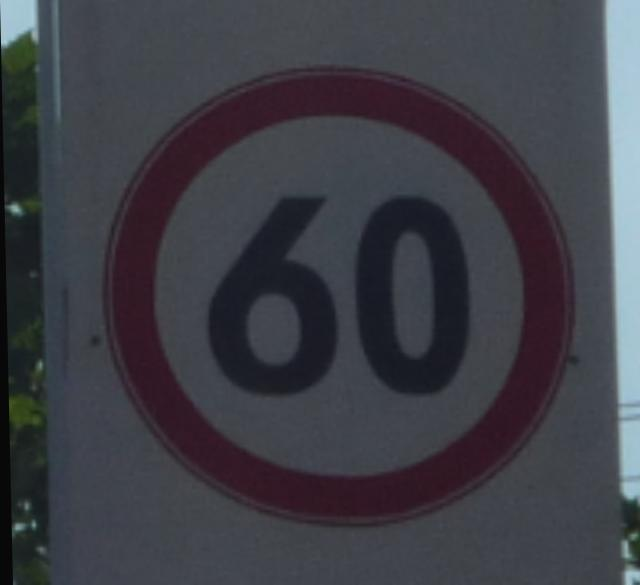limit60: (79, 57, 586, 536)
